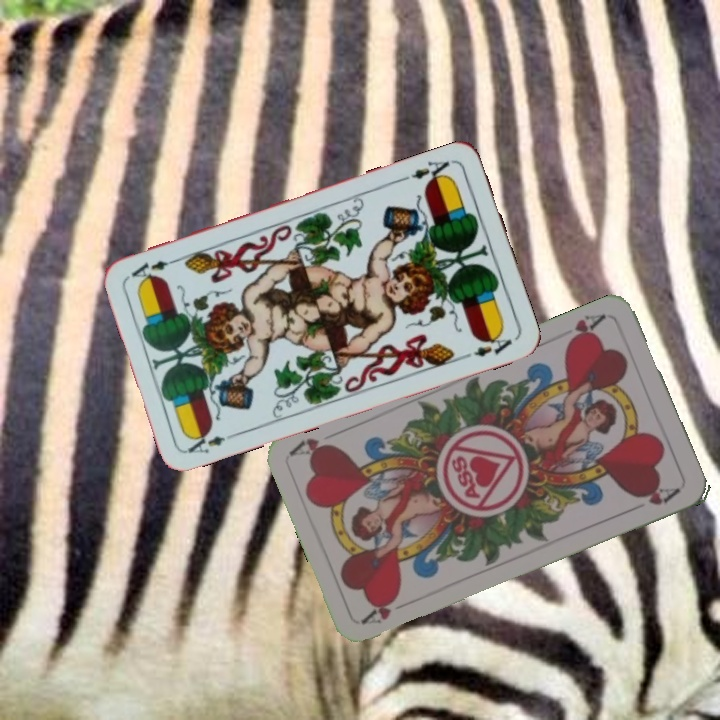EA: (183, 427, 241, 456), (399, 156, 453, 187)
HA: (358, 590, 415, 627), (561, 309, 609, 349)
